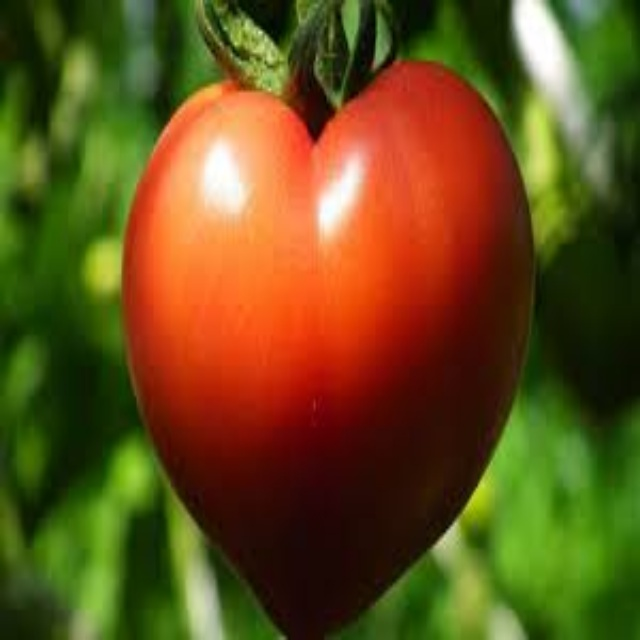tomato: (126, 60, 523, 626)
